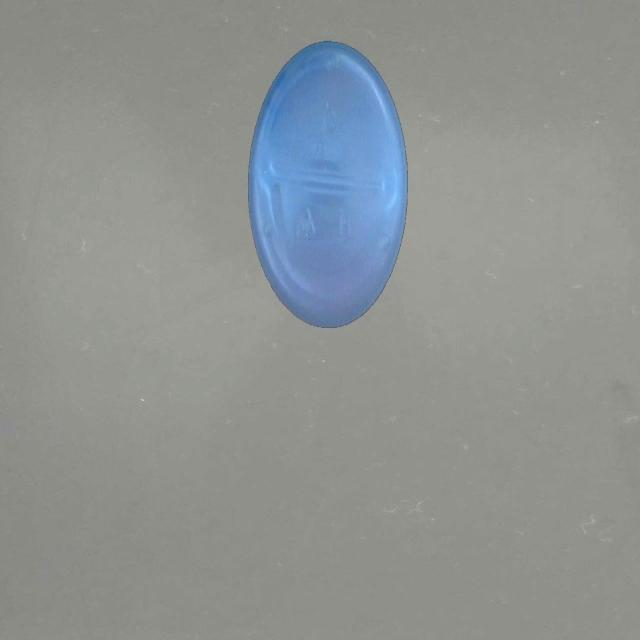bottle: (248, 38, 410, 328)
